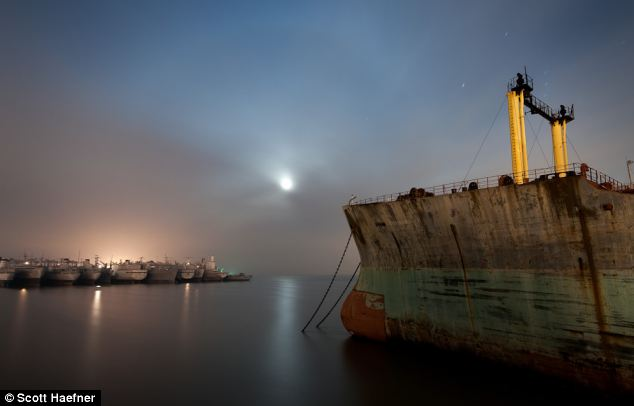rust: (545, 177, 610, 275), (589, 287, 616, 358), (395, 317, 461, 346), (346, 200, 357, 256)
